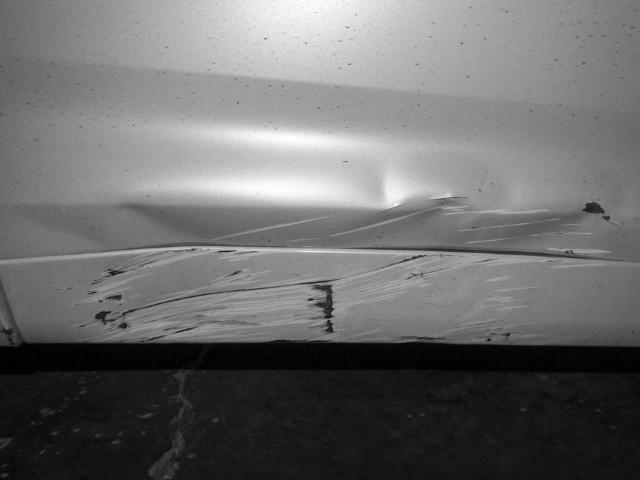Door: (44, 154, 640, 390)
